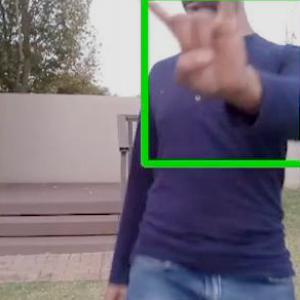takeoff-hand: (124, 0, 254, 102)
